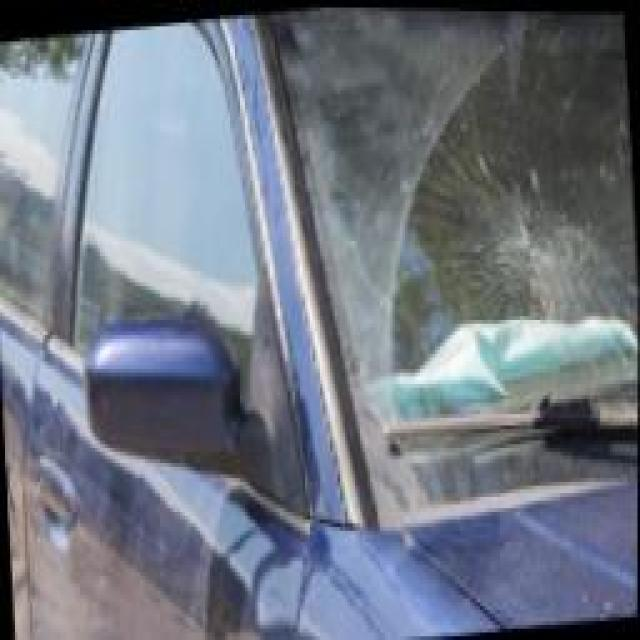Windshield: (280, 4, 639, 496)
